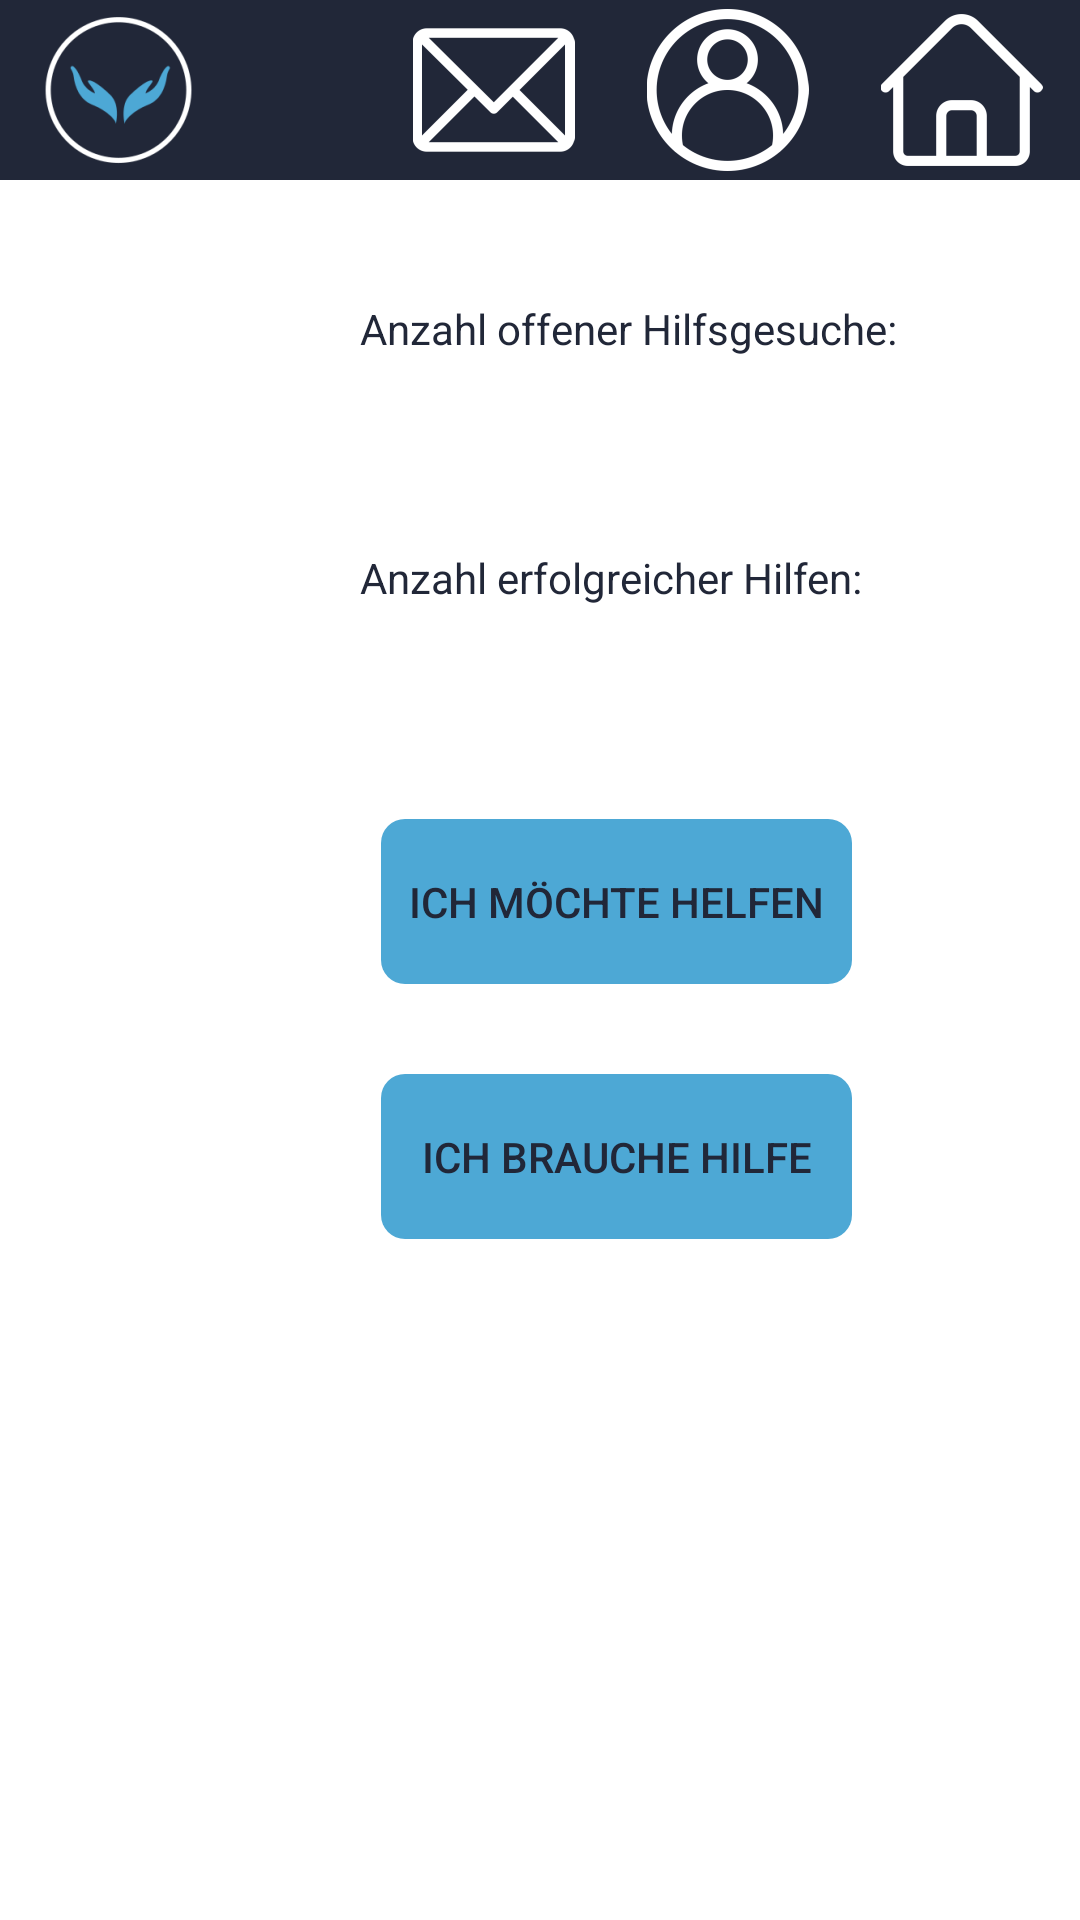

Icon click points for this 1080 × 1920 phone screenshot, format [x,y]:
home: [962,90]
message: [494,90]
profile: [728,90]
